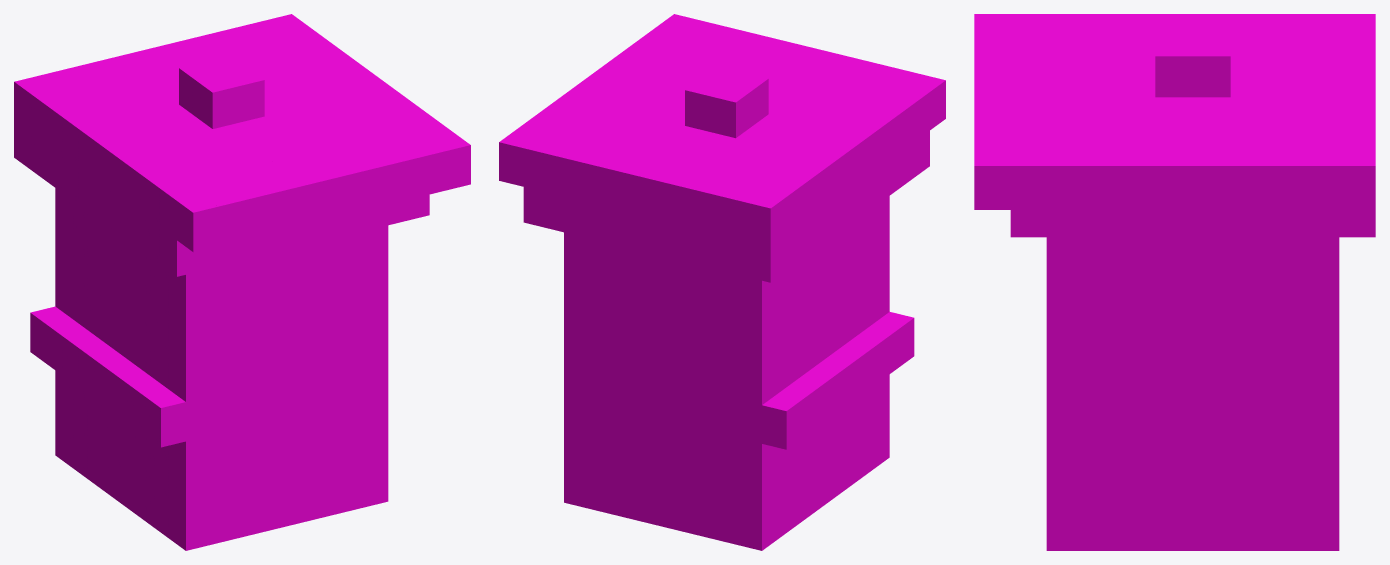
3 views of the same model, side by side, from view 1: azimuth 30°, elevation 25°; view 2: azimuth 150°, elevation 25°; view 3: azimuth 270°, elevation 25° (orthographic). The views are drawn at different scales.
Visible parts, largest first — view 1: col_roof_103, col_block_92, col_roof_215, col_block_156, col_block_08, col_block_128, col_block_184, col_block_36, col_roof_136, col_roof_158, col_roof_213, col_roof_180 (+131 smaller); view 2: col_block_85, col_roof_93, col_roof_214, col_roof_29, col_block_29, col_block_149, col_block_121, col_block_177, col_block_01, col_roof_104, col_roof_148, col_roof_181 (+131 smaller); view 3: col_roof_203, col_roof_211, col_roof_212, col_roof_208, col_roof_209, col_roof_204, col_roof_207, col_roof_210, col_roof_213, col_roof_205, col_roof_206, col_roof_216 (+177 smaller).
Boxes of the visible parts, x1,y1,x2,y2 form: col_roof_103: [175, 194, 220, 251]; col_block_92: [143, 390, 186, 447]; col_roof_215: [195, 73, 239, 128]; col_block_156: [169, 317, 212, 368]; col_block_08: [168, 499, 212, 550]; col_block_128: [168, 354, 212, 404]; col_block_184: [168, 281, 212, 331]; col_block_36: [169, 463, 212, 511]; col_roof_136: [253, 175, 295, 233]; col_roof_158: [304, 164, 345, 221]; col_roof_213: [430, 132, 470, 190]; col_roof_180: [355, 150, 395, 208]; col_block_85: [760, 394, 803, 449]; col_roof_93: [744, 190, 787, 244]; col_roof_214: [709, 83, 751, 138]; col_roof_29: [744, 232, 787, 282]; col_block_29: [735, 465, 777, 514]; col_block_149: [735, 322, 778, 371]; col_block_121: [735, 359, 777, 407]; col_block_177: [735, 287, 777, 336]; col_block_01: [735, 503, 777, 550]; col_roof_104: [719, 184, 760, 240]; col_roof_148: [621, 160, 664, 216]; col_roof_181: [548, 142, 591, 198]; col_roof_203: [1336, 151, 1375, 209]; col_roof_211: [1046, 151, 1085, 209]; col_roof_212: [1010, 151, 1049, 209]; col_roof_208: [1155, 151, 1194, 209]; col_roof_209: [1119, 151, 1158, 209]; col_roof_204: [1300, 151, 1339, 209]; col_roof_207: [1191, 151, 1230, 209]; col_roof_210: [1083, 151, 1121, 209]; col_roof_213: [974, 151, 1013, 209]; col_roof_205: [1264, 151, 1303, 209]; col_roof_206: [1228, 151, 1266, 209]; col_roof_216: [1191, 41, 1230, 97].
Bounding box in the file's own units: 2.12 × 2.95 × 2.37.
